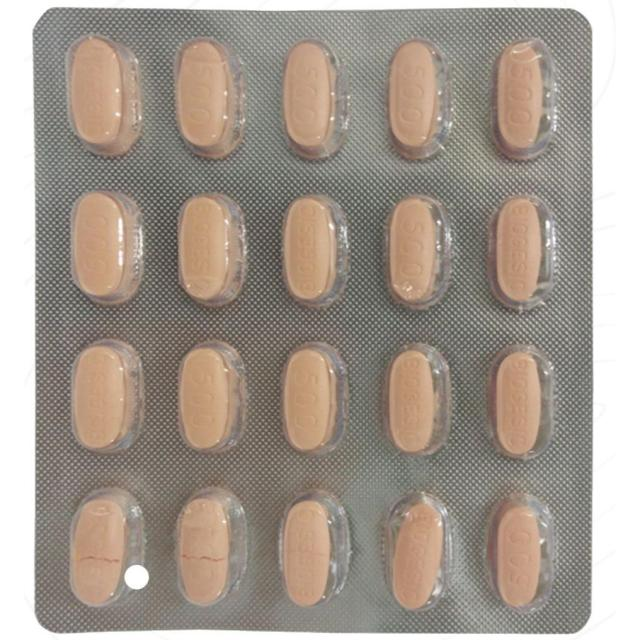blister: (27, 7, 597, 634)
